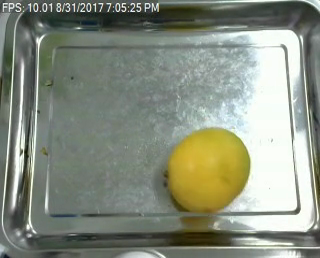Mango: (168, 126, 250, 210)
